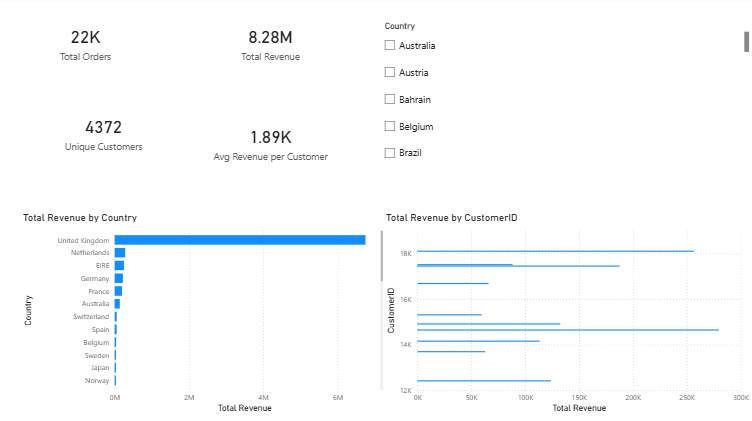

The page's visual inventory and layout, read from the dashboard file:
{"tool":"powerbi","page":{"name":"Page 1","canvas":[1280,720],"ordinal":0},"visuals":[{"type":"card","fields":{"Values":["Sheet1.Total Orders"]},"box":[10.1,0,280.5,151.2],"z":0},{"type":"card","fields":{"Values":["Sheet1.Total Revenue"]},"box":[320.8,0,280.5,151.2],"z":1},{"type":"card","fields":{"Values":["Sheet1.Unique Customers"]},"box":[40.3,151.2,280.5,151.2],"z":2},{"type":"card","fields":{"Values":["Sheet1.Avg Revenue per Customer"]},"box":[320.8,168,280.5,151.2],"z":3},{"type":"clusteredBarChart","fields":{"Category":["Sheet1.Country"],"Y":["Sheet1.Total Revenue"]},"box":[40.3,359.5,618.2,344.4],"z":4},{"type":"clusteredBarChart","fields":{"Category":["Sheet1.CustomerID"],"Y":["Sheet1.Total Revenue"]},"box":[650.1,359.5,619.8,344.4],"z":5},{"type":"slicer","fields":{"Values":["Sheet1.Country"]},"box":[640,35.3,629.9,267.1],"z":6}]}

Visuals, with their boxes in screenshot pixels (x1, y1, x2, y2), scaled from the page's 1280x720 canvas onto the 752x421 screenshot:
card - Sheet1.Total Orders: (6, 0, 171, 88)
card - Sheet1.Total Revenue: (188, 0, 353, 88)
card - Sheet1.Unique Customers: (24, 88, 188, 177)
card - Sheet1.Avg Revenue per Customer: (188, 98, 353, 187)
clusteredBarChart - Sheet1.Country x Sheet1.Total Revenue: (24, 210, 387, 412)
clusteredBarChart - Sheet1.CustomerID x Sheet1.Total Revenue: (382, 210, 746, 412)
slicer - Sheet1.Country: (376, 21, 746, 177)
